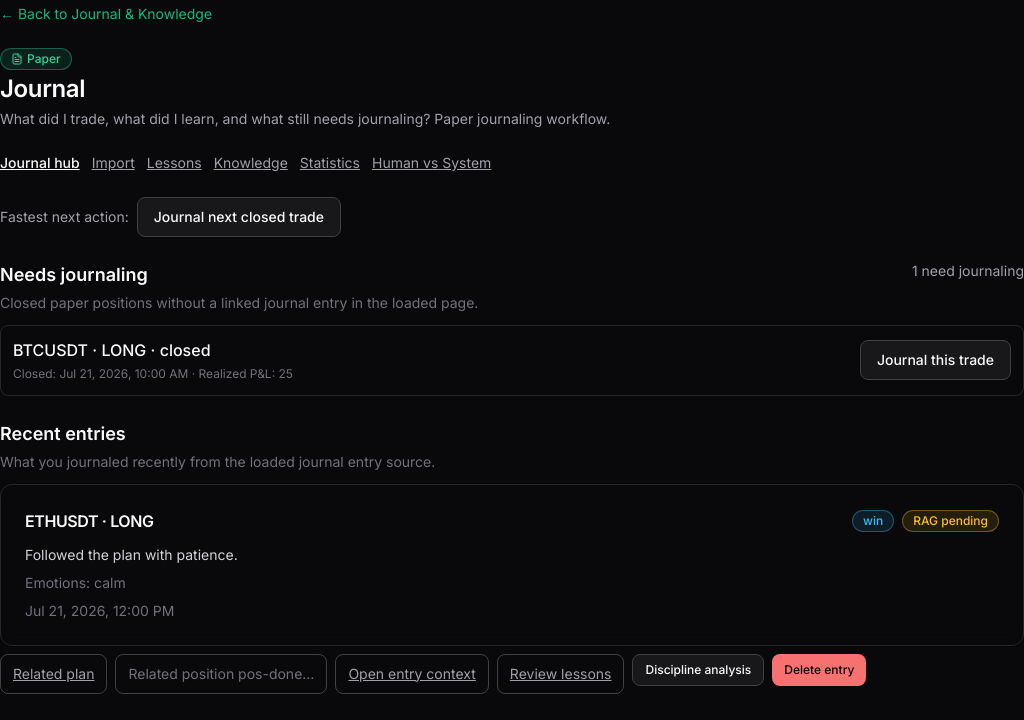
Test: Journal hub Phase C3A › surfaces create-lesson mutation failures as a visible alert
Click the button "Discipline analysis": (698, 670) [632, 654, 764, 686]
(page scrolled)
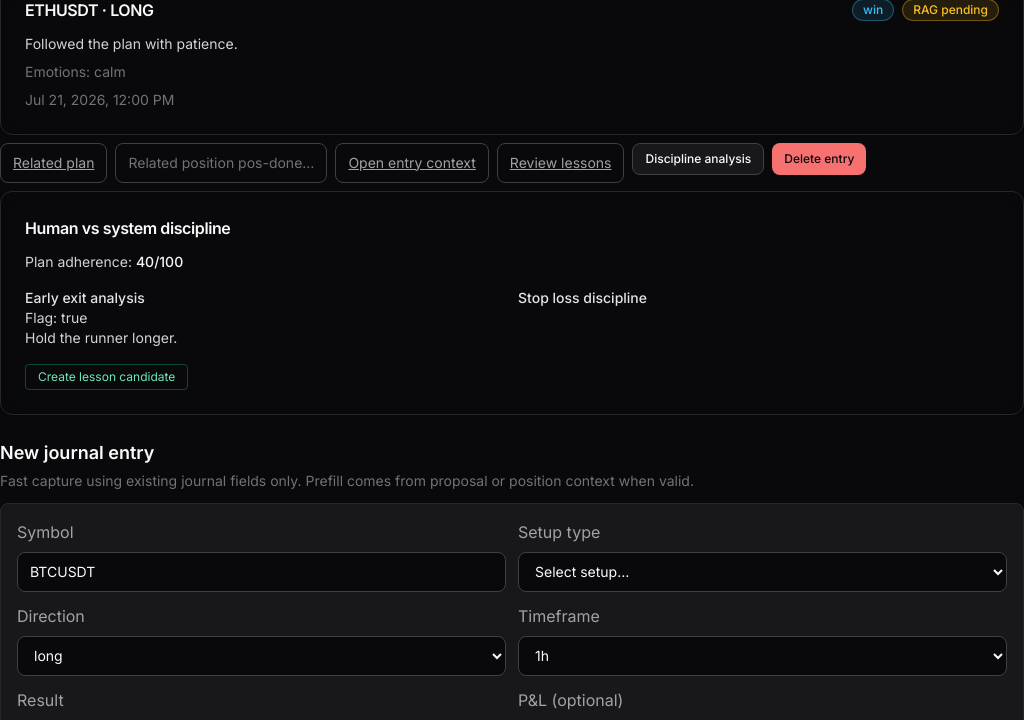
Now the element with test id "discipline-panel" is shown, box [0, 191, 1023, 415]
Click the button "Create lesson candidate": (107, 377) [25, 364, 188, 390]
(page scrolled)
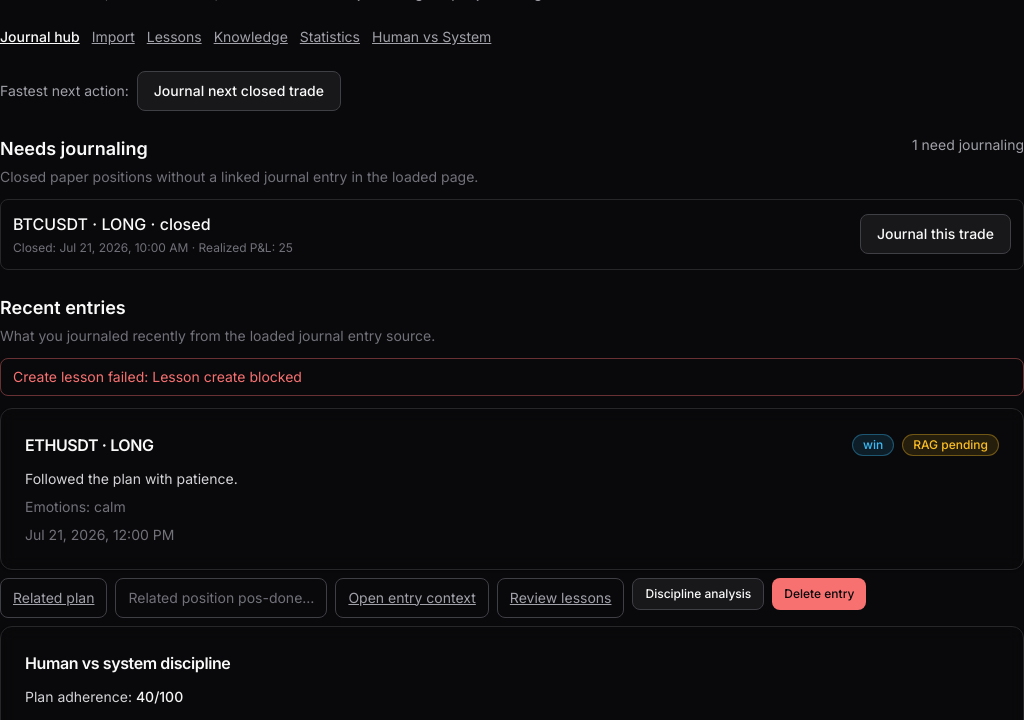
Now the message with test id "journal-mutation-error" shows "Create lesson failed", box [13, 368, 302, 385]
